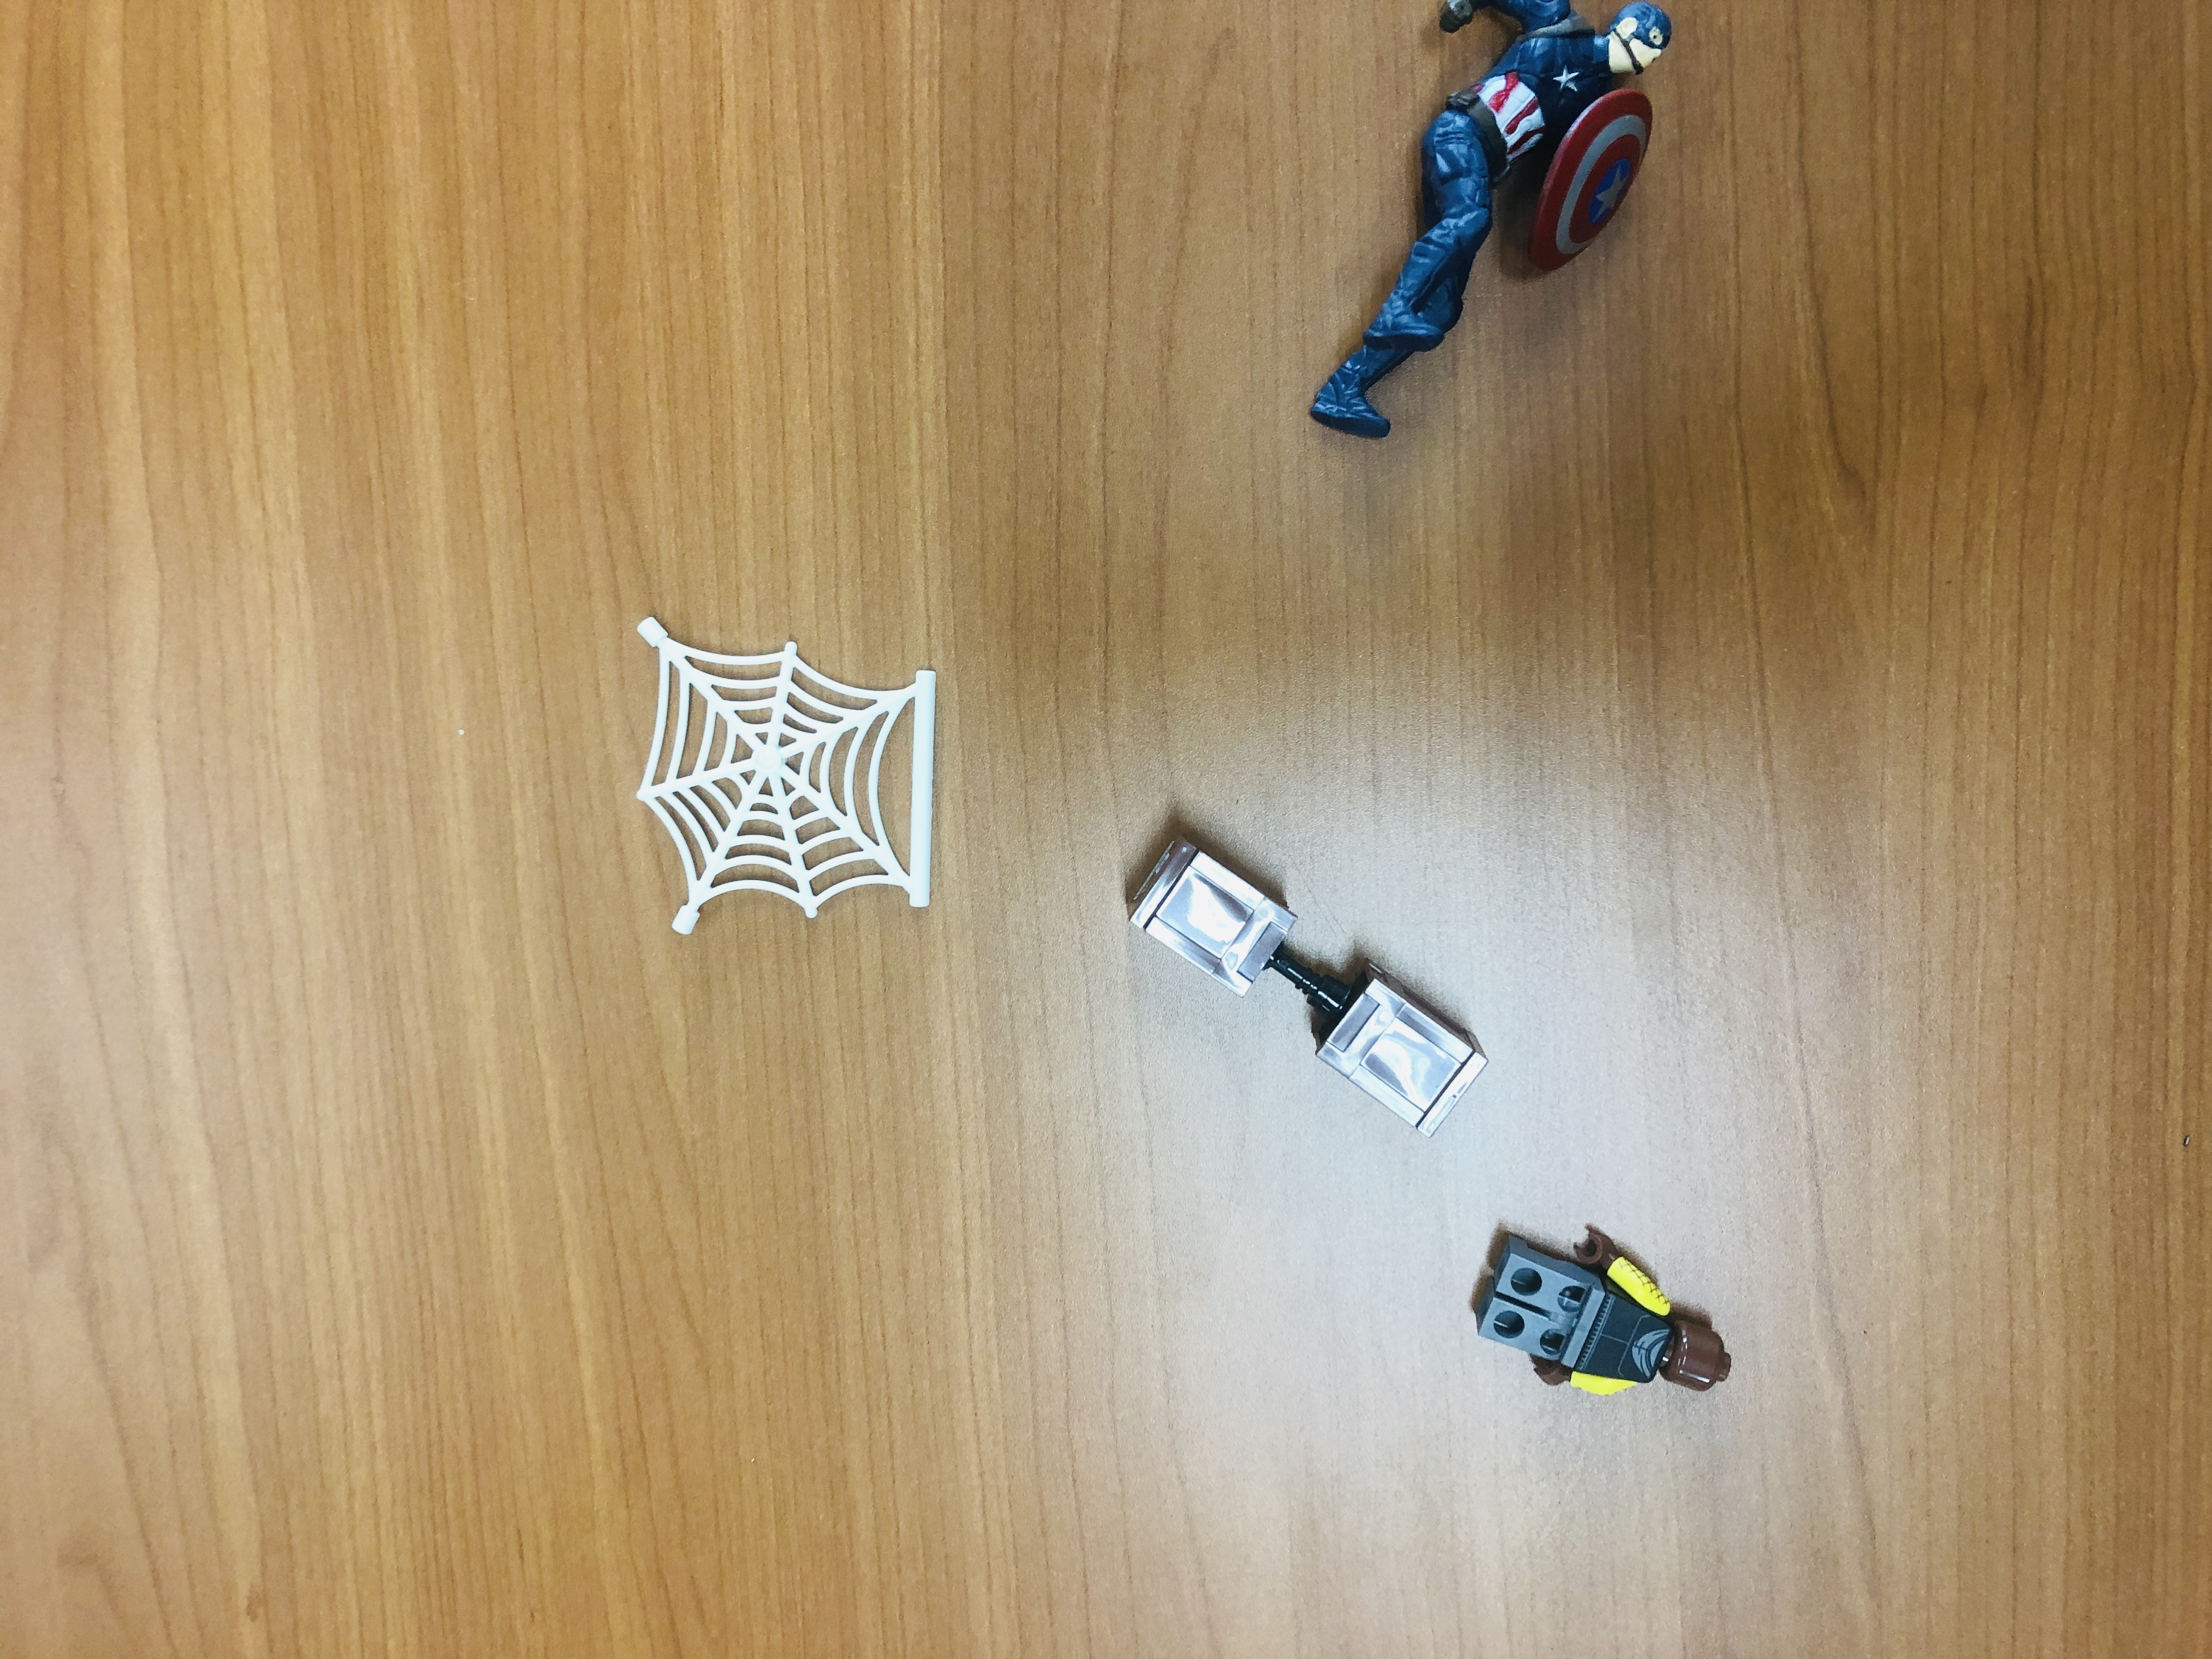box: (1311, 958, 1502, 1125), (1120, 833, 1300, 1002)
people: (1313, 3, 1673, 448), (1465, 1219, 1737, 1401)
web: (622, 618, 946, 936)
